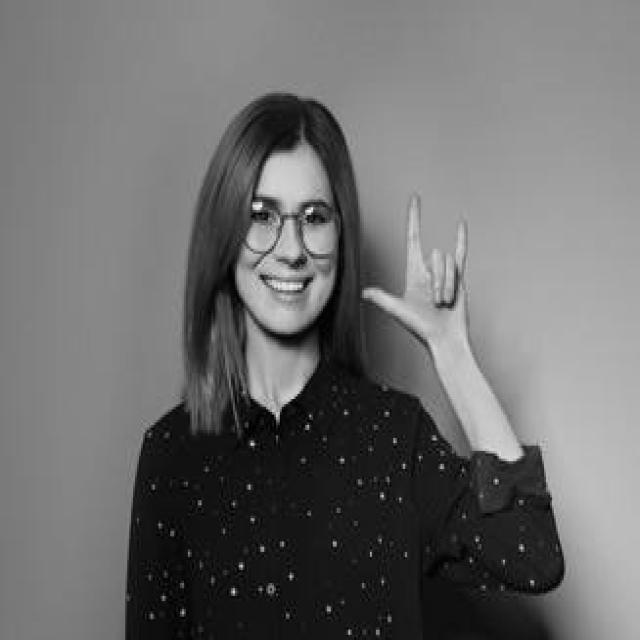i love you: (358, 188, 473, 358)
